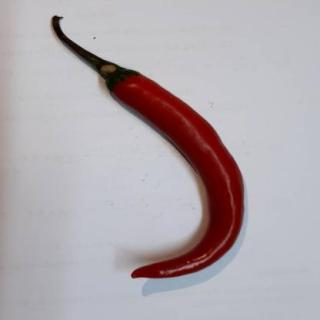Cabai Merah: (50, 14, 246, 281)
